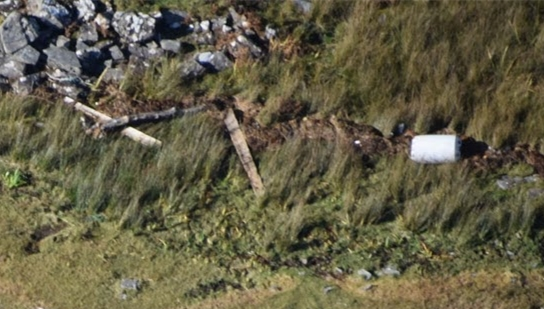straight_bar: (217, 103, 273, 203), (63, 96, 164, 148), (100, 103, 206, 134)
white_in_green: (382, 104, 486, 190)
